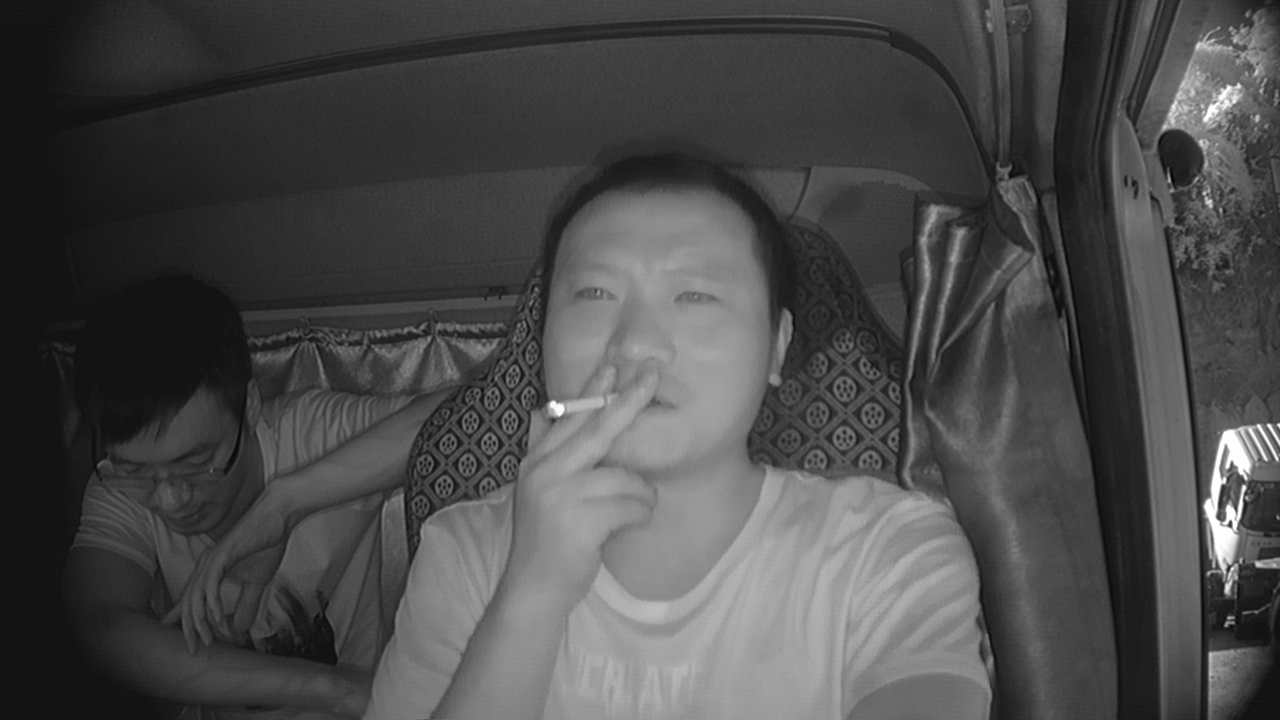hand: (537, 377, 655, 542)
